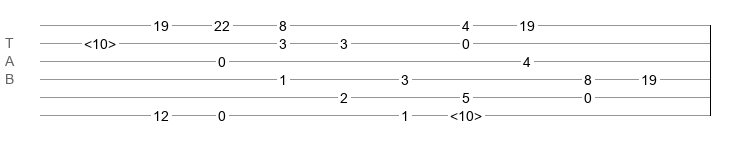0: (218, 54, 226, 64), (218, 108, 226, 118), (462, 36, 470, 46), (584, 90, 592, 100)
1: (279, 72, 287, 82), (401, 108, 409, 118)
12: (153, 108, 169, 118)
19: (153, 18, 169, 28), (519, 18, 535, 28), (641, 72, 657, 82)
2: (340, 90, 348, 100)
22: (214, 18, 230, 28)
3: (279, 36, 287, 46), (340, 36, 348, 46), (401, 72, 409, 82)
4: (462, 18, 470, 28), (523, 54, 531, 64)
5: (462, 90, 470, 100)
8: (279, 18, 287, 28), (584, 72, 592, 82)
harmonic: (84, 36, 116, 46), (450, 108, 482, 118)
